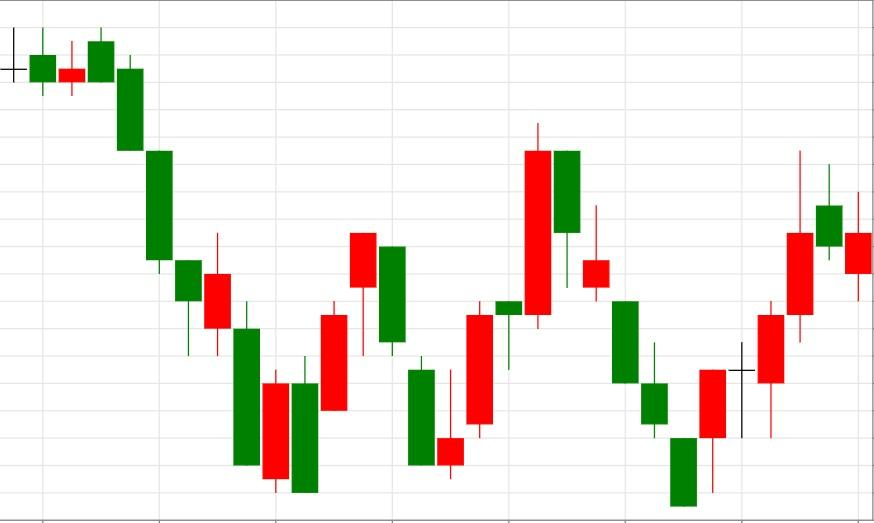inverse_hammer_rise: (348, 231, 465, 480)
